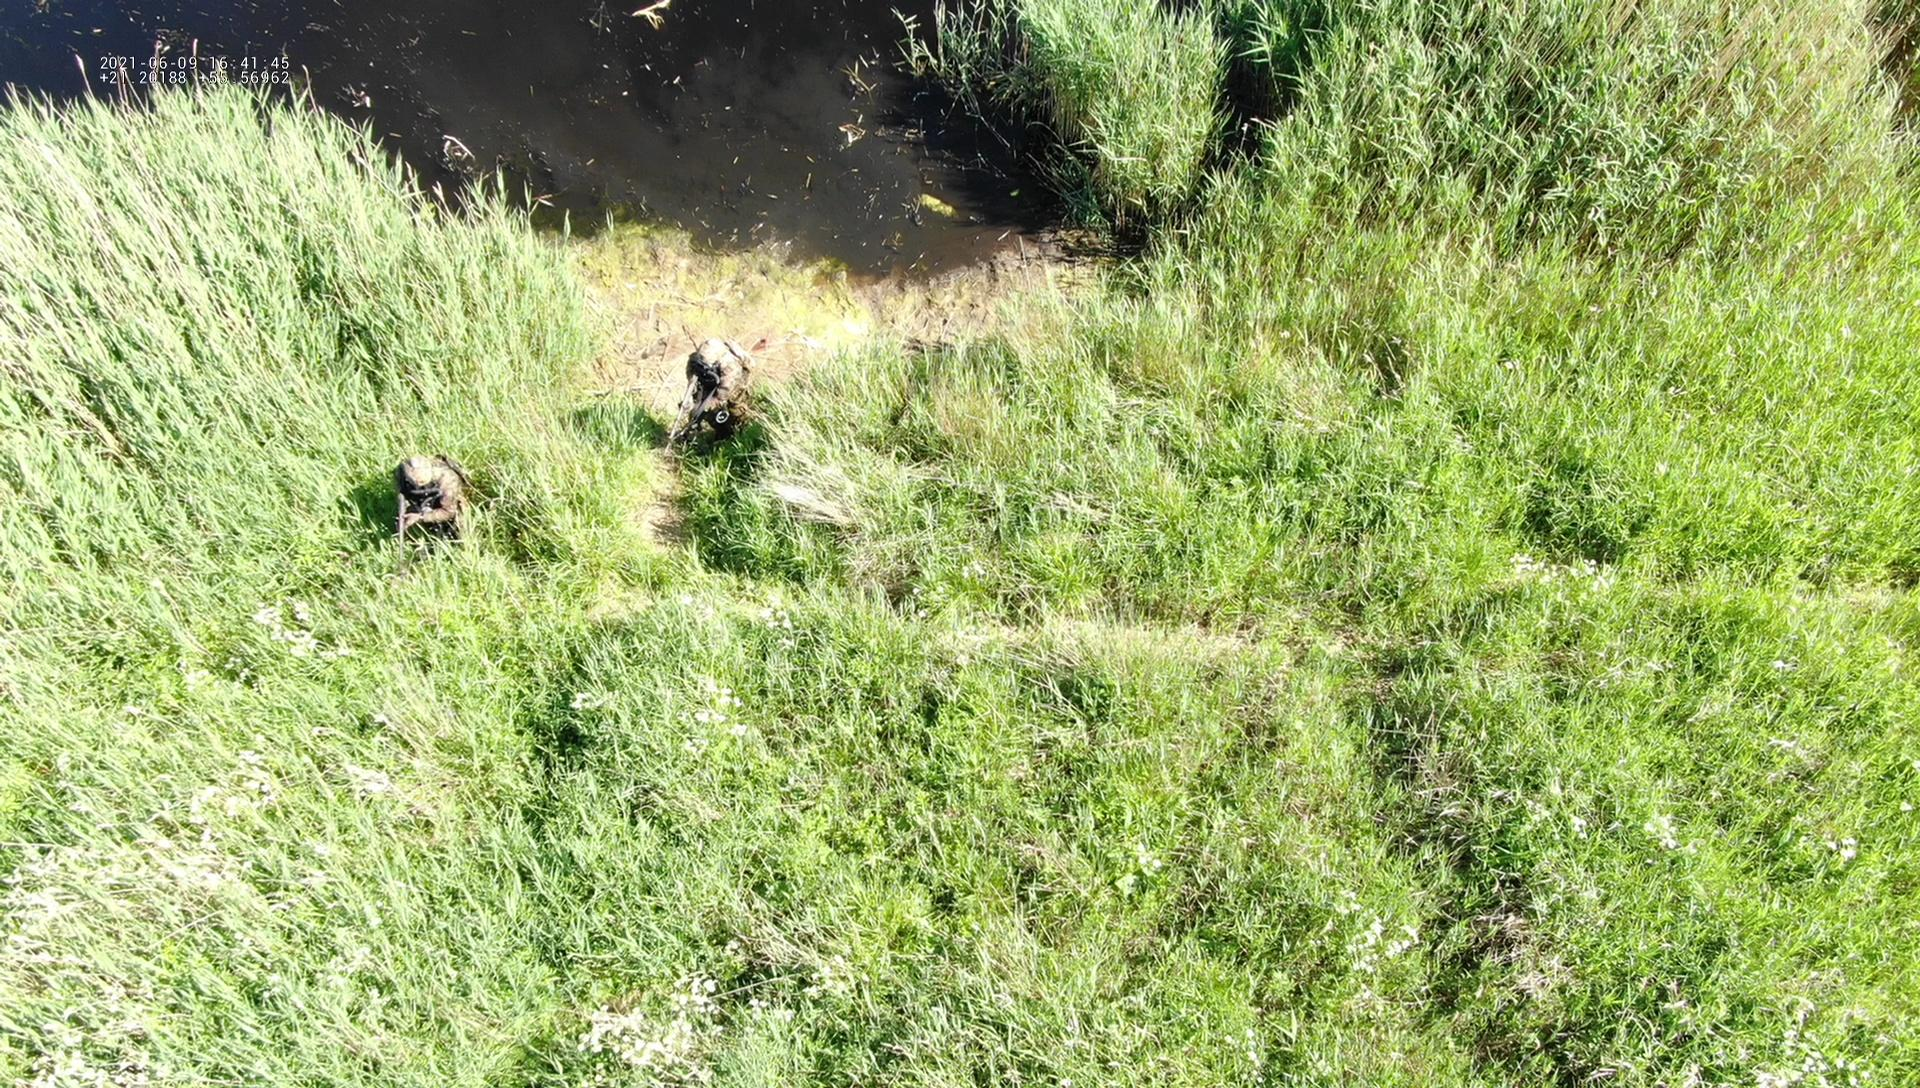Soldier: (662, 335, 756, 458), (396, 452, 465, 566)
